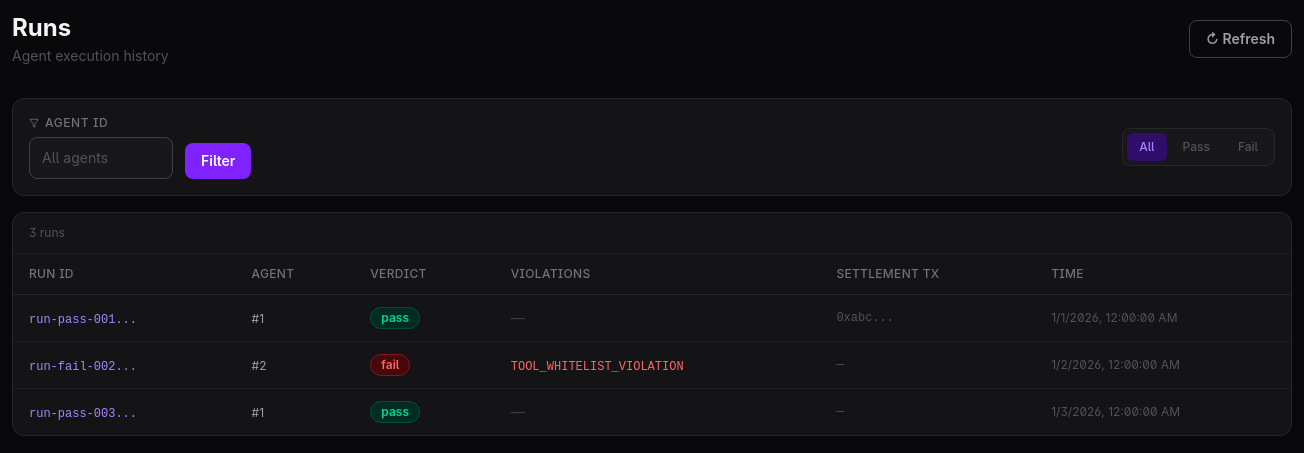
Test case: Runs — verdict filter › filters to pass runs only
The image size is (1304, 453).
Check: the text "3 runs" is shown, box [29, 225, 65, 241]
Click the button "Pass" at x=1196, y=147, box [1170, 133, 1222, 161]
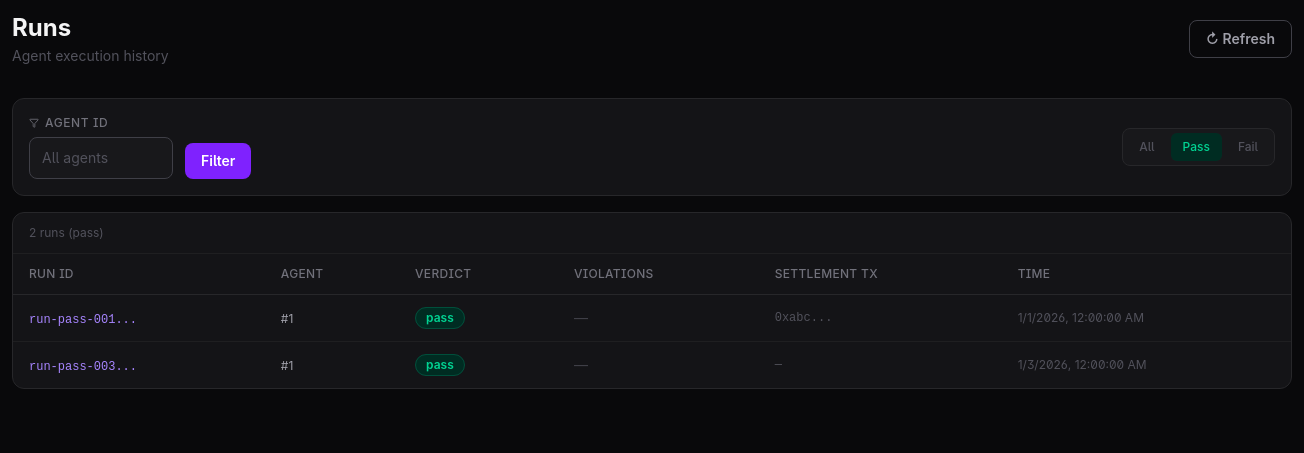
Check: the text "pass" is shown 2 times, box [415, 307, 465, 329]; [415, 354, 465, 376]
Check: the text "2 runs (pass)" is shown, box [29, 225, 104, 241]
